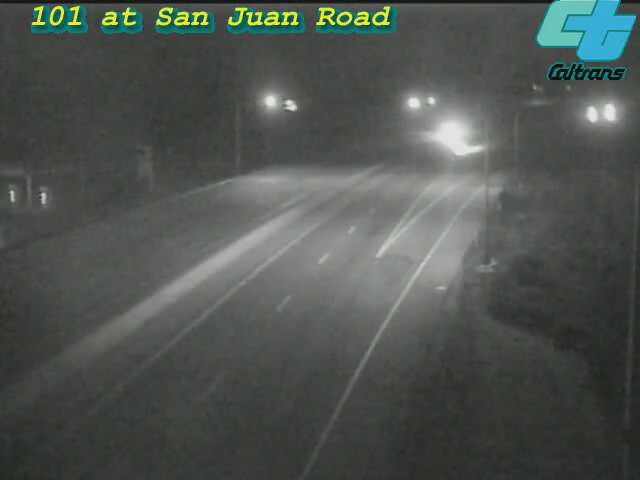vehicle: (420, 107, 470, 157), (436, 122, 486, 172), (565, 89, 615, 139), (585, 89, 635, 139)
